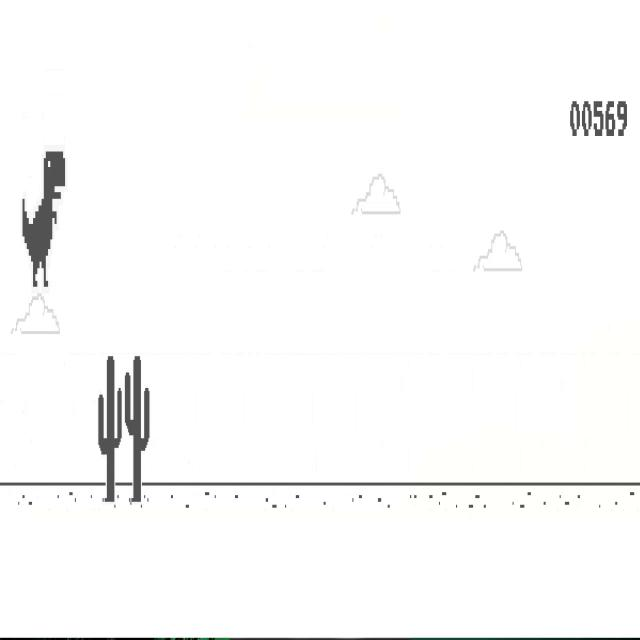cacto: (124, 354, 150, 505), (98, 354, 122, 505)
dino: (22, 150, 66, 290)
